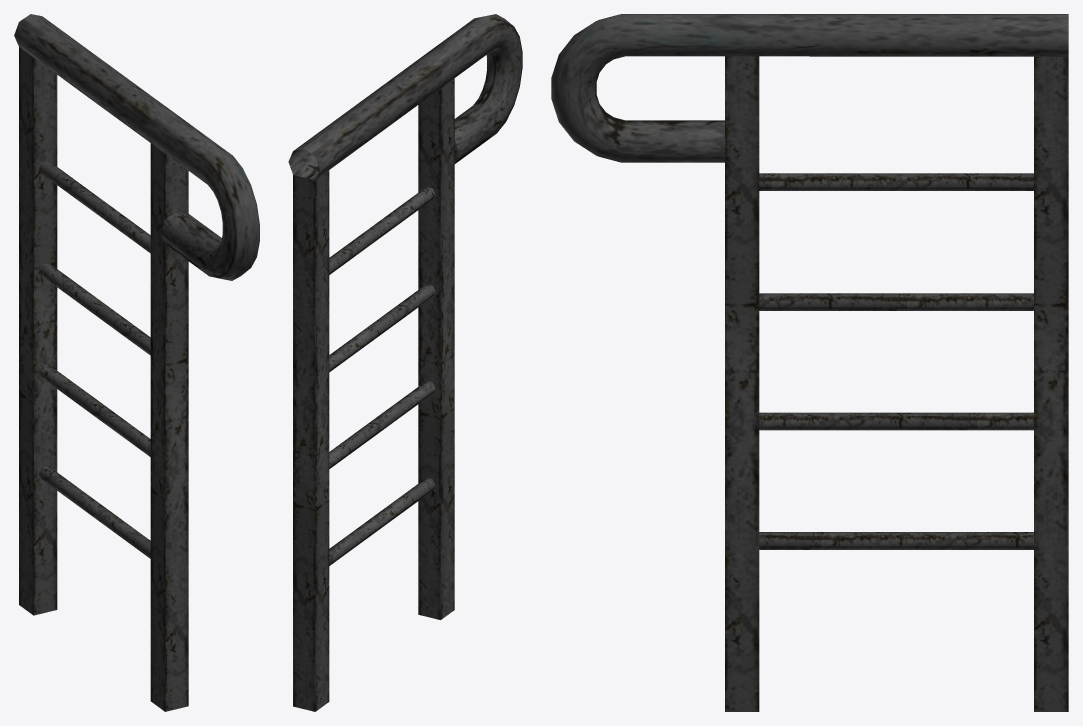
Rendered from p6_blackout_rail_endcap_b_lod0.glb.
The picture shows the model from 3 angles, left to right: view 1: azimuth 30°, elevation 25°; view 2: azimuth 150°, elevation 25°; view 3: azimuth 270°, elevation 25°; orthographic projection. The views are drawn at different scales.
Visible parts, largest first — view 1: surf0; view 2: surf0; view 3: surf0.
Part boxes in pixels (x1=…): surf0: x1=14, y1=14, x2=259, y2=711; surf0: x1=288, y1=14, x2=522, y2=711; surf0: x1=551, y1=14, x2=1068, y2=711.
Bounding box in the file's own units: 2 × 33.59 × 22.8.
